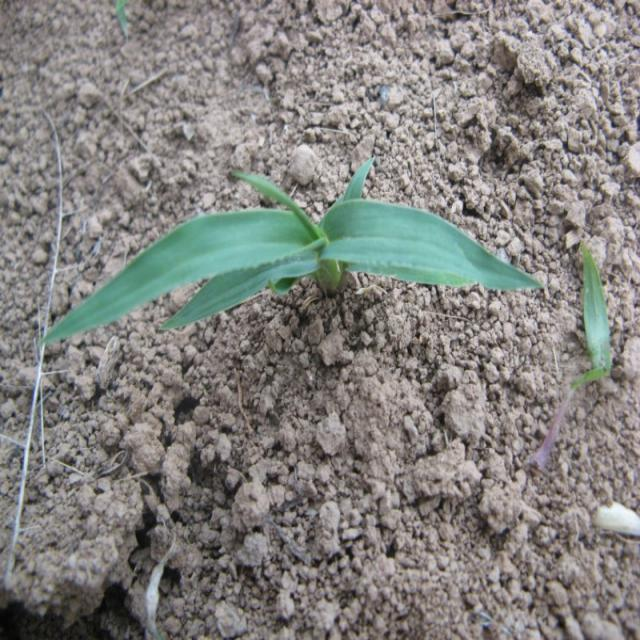bg: (35, 160, 545, 345)
